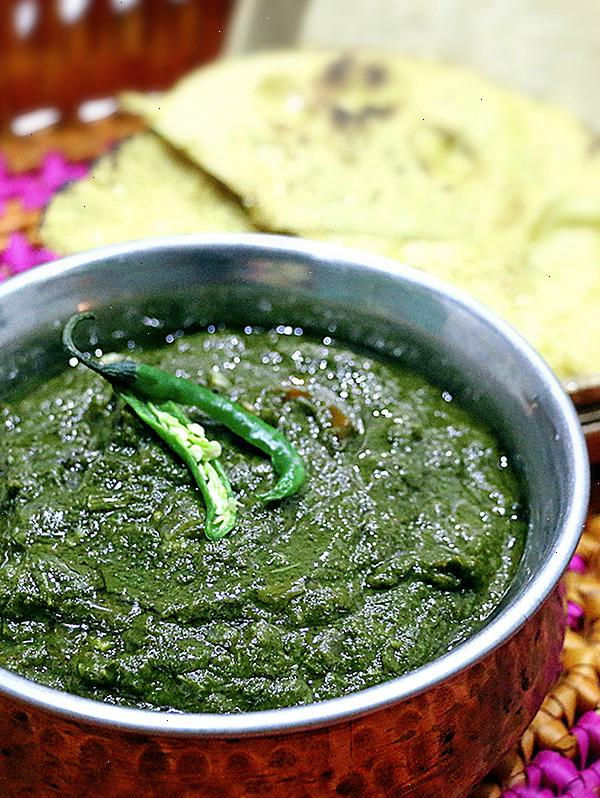saag: (11, 329, 529, 720)
